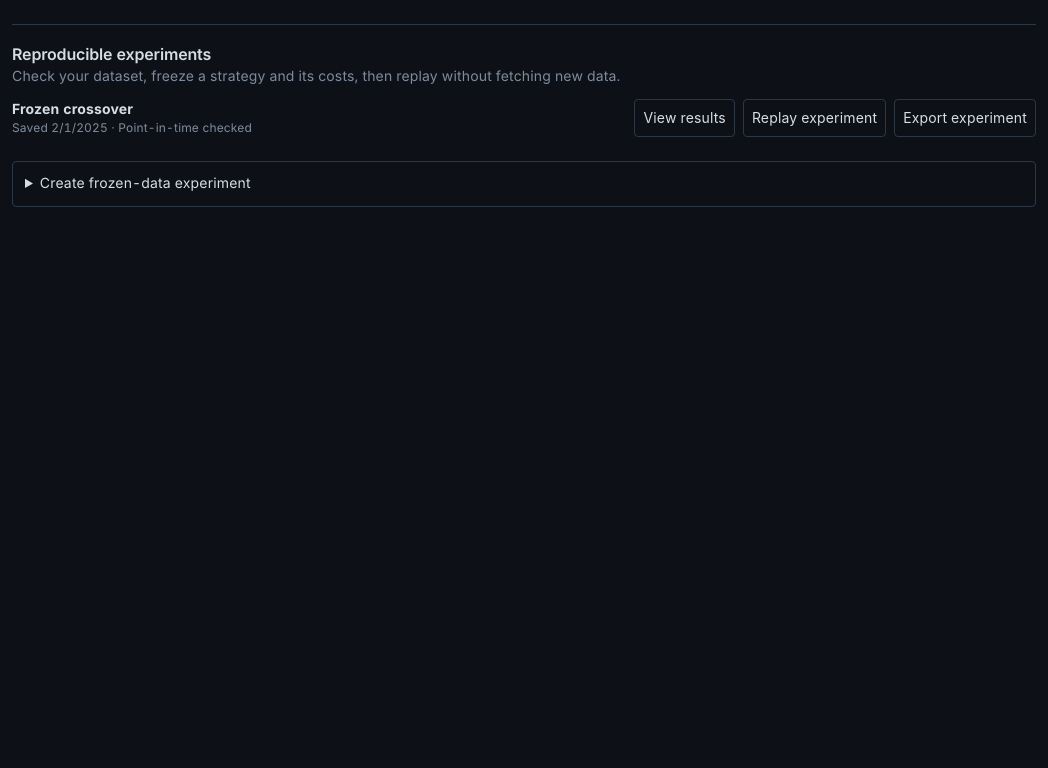
Scenario: saved experiment comparison › loads saved results on replay and exposes differing recomputed results
Click the button "Replay experiment" at (814, 118), box [743,99,886,137]
(page scrolled)
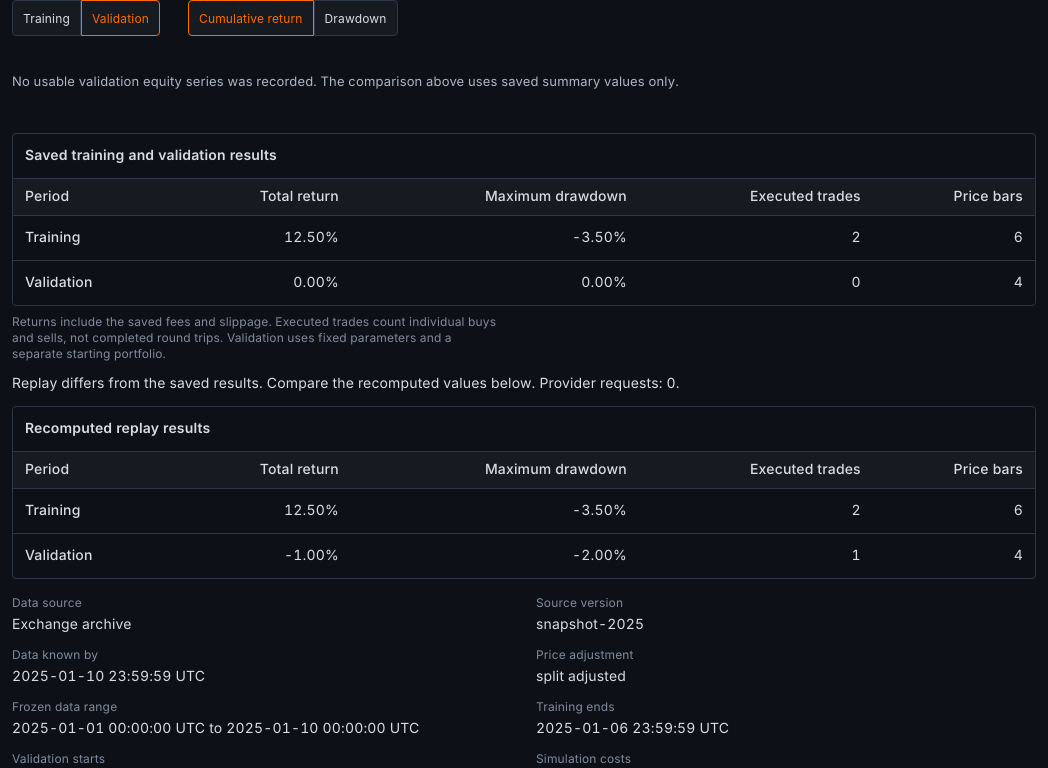
expect the table "Saved training and validation results" is shown: met, box [13,134,1035,305]
expect the text "-1.00%" is shown: met, box [172,534,351,578]
expect the message shows "Replay differs": met, box [12,375,536,392]
